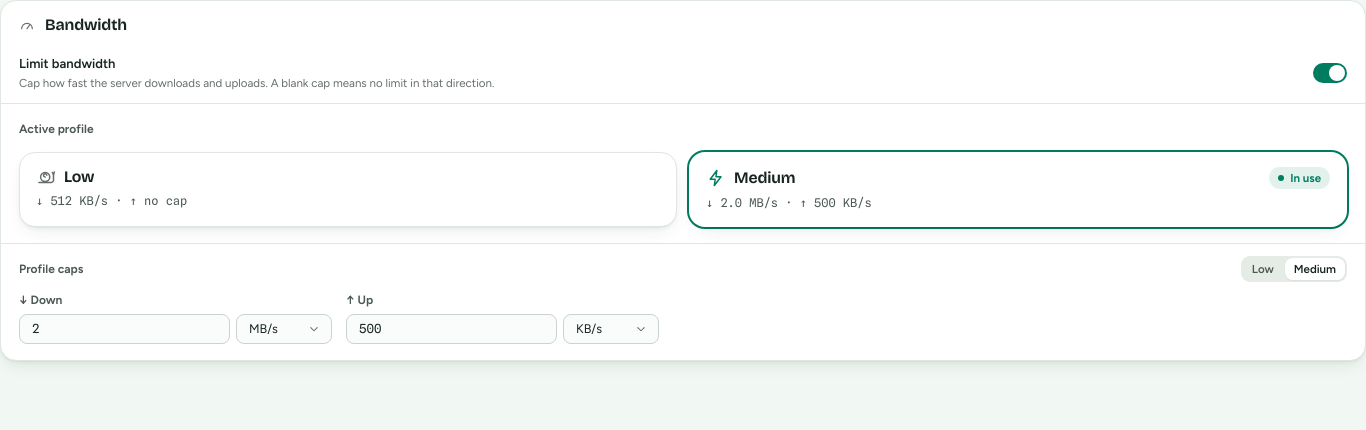
Test case: BandwidthCard › discards pending edits back to the saved caps
The image size is (1366, 430).
Click the radio button labelled "Low".
click(1263, 269)  # box [1243,258,1283,280]
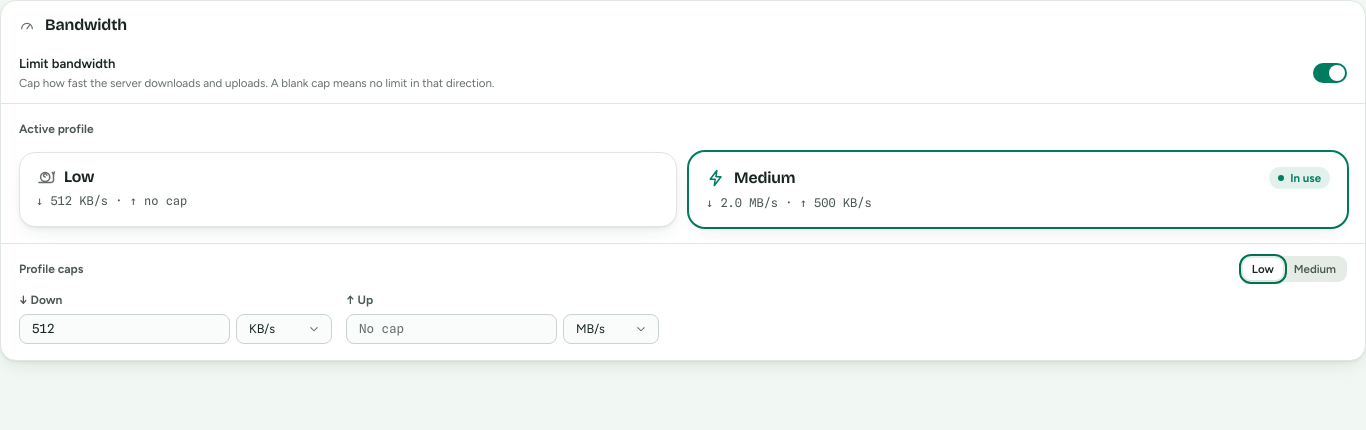
Replace the text in the field named "Download cap for Low" with "9" at (124, 329), box [32,315,217,343]
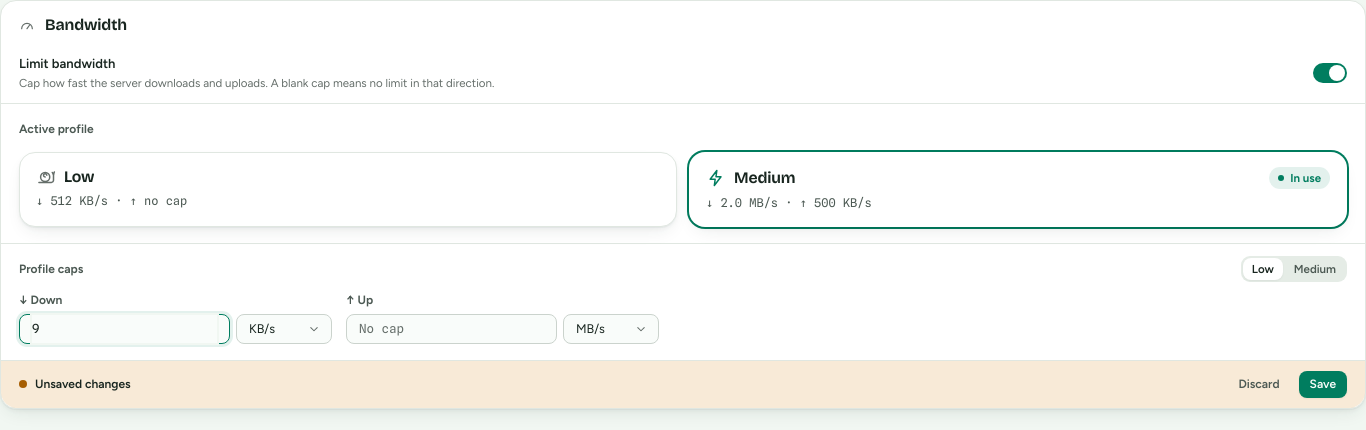
Click the button "Discard".
click(1259, 384)  # box [1227,371,1291,398]
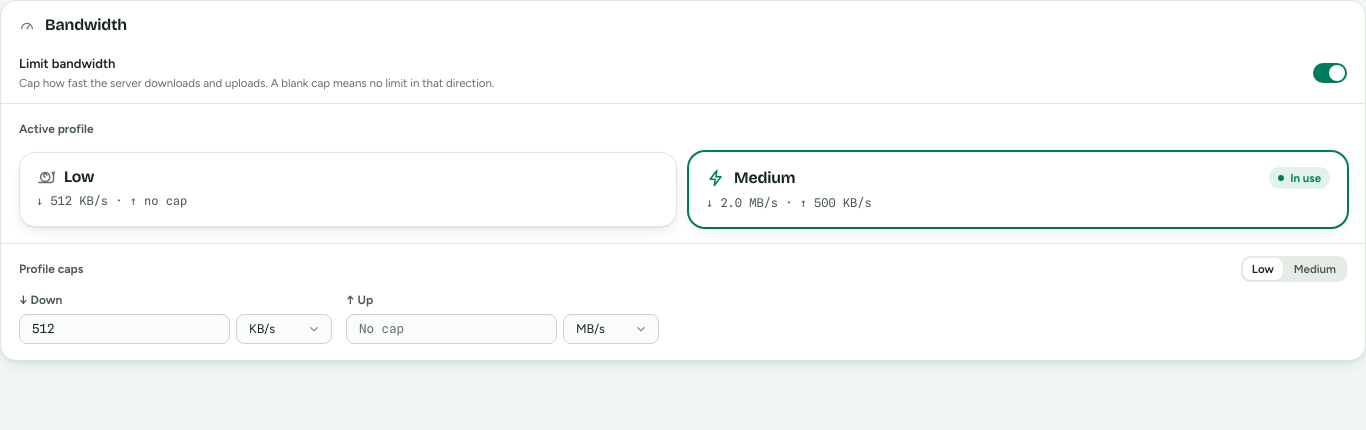
expect the field named "Download cap for Low" holds "512": met, box [32,315,217,343]
